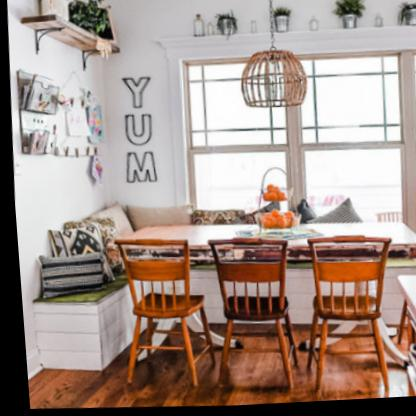Dining Table: (111, 212, 416, 371)
